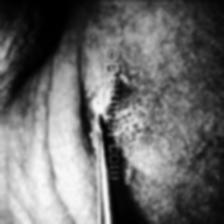Unclassified: (127, 70, 148, 163), (85, 91, 104, 156)
